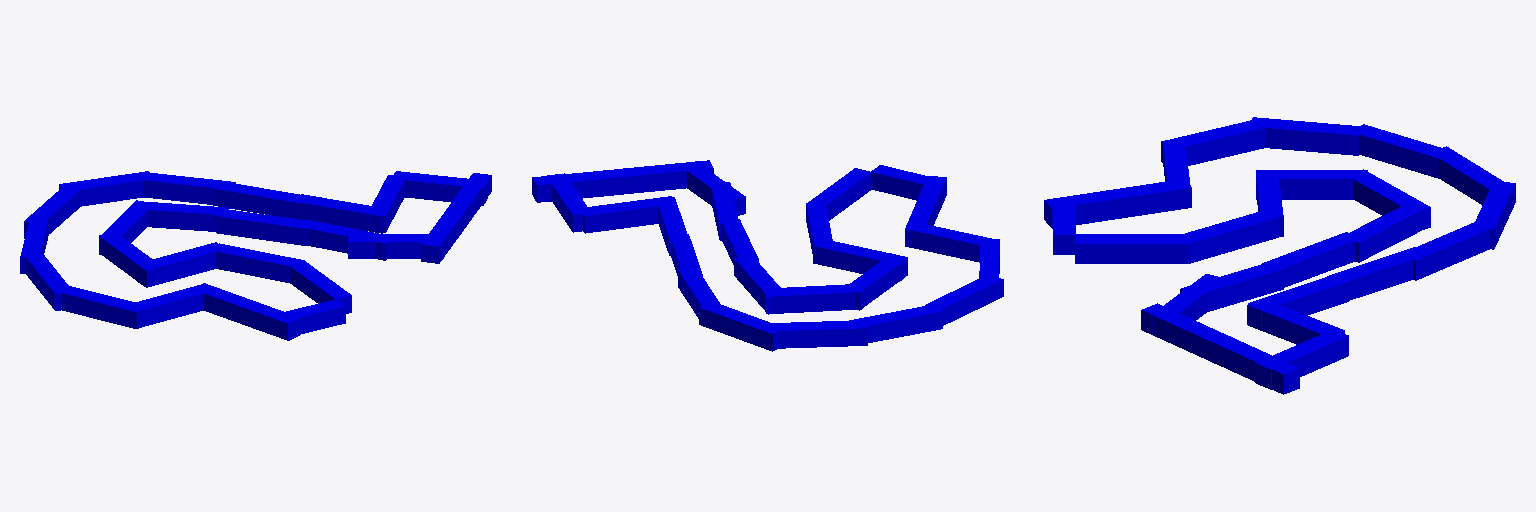
The robot description file, URDF, robot "walls.urdf":
<?xml version="1.0" ?>
<robot name="walls.urdf">
  <link name="baseLink">
    <contact>
      <lateral_friction value="0.5"/>
      <rolling_friction value="0.0"/>
      <contact_cfm value="0.0"/>
      <contact_erp value="1.0"/>
    </contact>
    <inertial>
      <origin rpy="0 0 0" xyz="0. 0. 0."/>
       <mass value=".1"/>
       <inertia ixx="1" ixy="0" ixz="0" iyy="1" iyz="0" izz="1"/>
    </inertial>
    <visual>
      <origin rpy="0 0 0" xyz="0 0 0"/>
      <geometry>
        <mesh filename="arena2.obj" scale="1 1 1"/>
      </geometry>
       <material name="red">
        <color rgba="0 0 1 1"/>
      </material>
    </visual>
    <collision concave="yes">
      <origin rpy="0 0 0" xyz="0 0 0"/>
      <geometry>
    <mesh filename="arena2.obj" scale="1 1 1"/>
      </geometry>
    </collision>
  </link>

  <link name="world"/>

  <joint name="fixed_joint" type="fixed">
    <parent link="world"/>
    <child link="baseLink"/>
    <origin rpy="0 0 0" xyz="0 0 0"/>
  </joint>
</robot>

--- What the picture shows (computed from the rendered views, not written in the file) ---
Views: 3 orthographic renders of the robot side by side, from view 1: azimuth 30°, elevation 25°; view 2: azimuth 150°, elevation 25°; view 3: azimuth 270°, elevation 25°.
Model walls.urdf with 2 links and 1 joints (1 fixed), rooted at world, posed all joints at 0.
Visible links, largest first — view 1: baseLink; view 2: baseLink; view 3: baseLink.
Link boxes in pixels (box(x1,y1,x2,y2)): baseLink: box(20, 171, 491, 340); baseLink: box(532, 160, 1003, 351); baseLink: box(1044, 117, 1515, 394).
Size in the robot's own frame: 54.45 by 42.11 by 2 metres.
1 mesh visuals loaded from 1 distinct referenced files (1 OBJ).